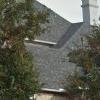Chimney: (75, 0, 99, 25)
